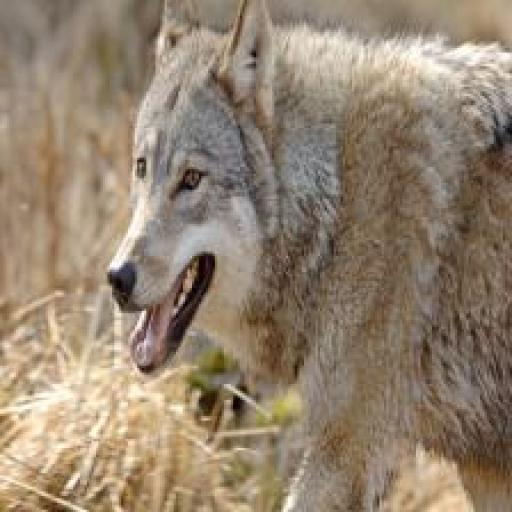wolf: (98, 0, 512, 512)
